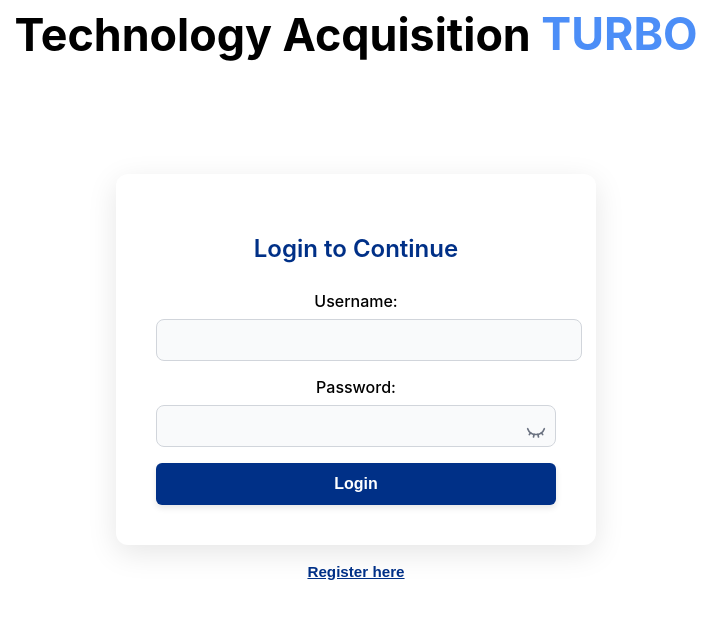
Test: No Username/Password › shows a validation error when fields are empty
Click the submit button: click(356, 484) x1=156 y1=463 x2=556 y2=505
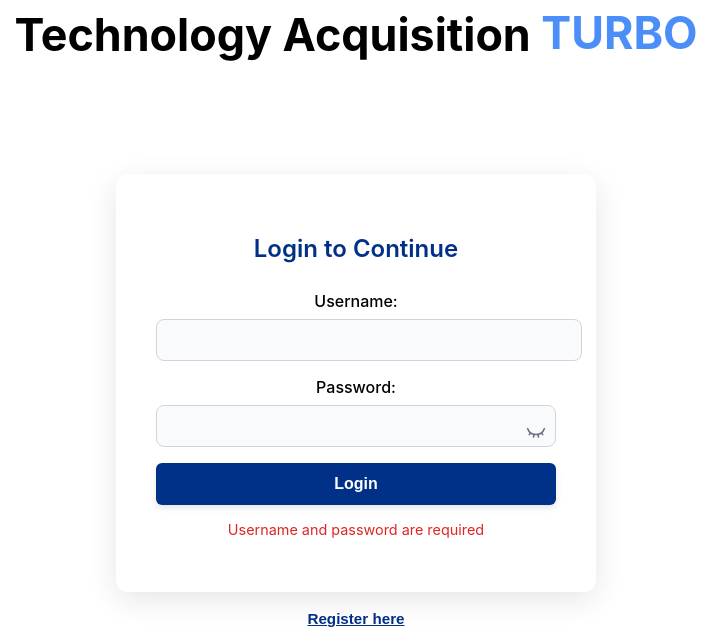
Expected: the text "Username and password are required" is shown, x1=228 y1=521 x2=484 y2=538
